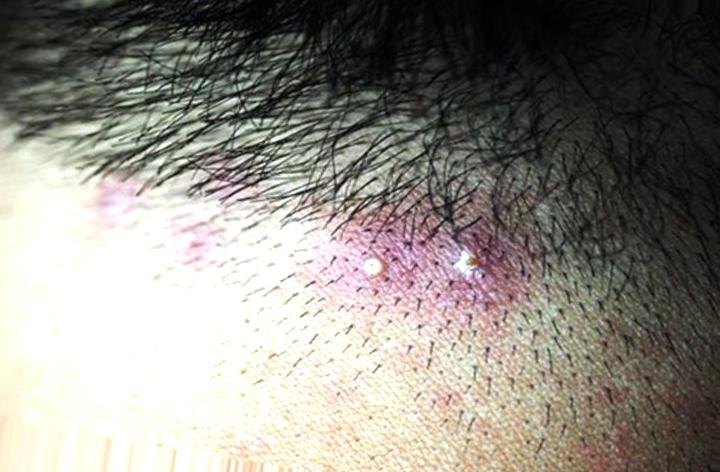Folliculitis: (338, 218, 528, 319)
